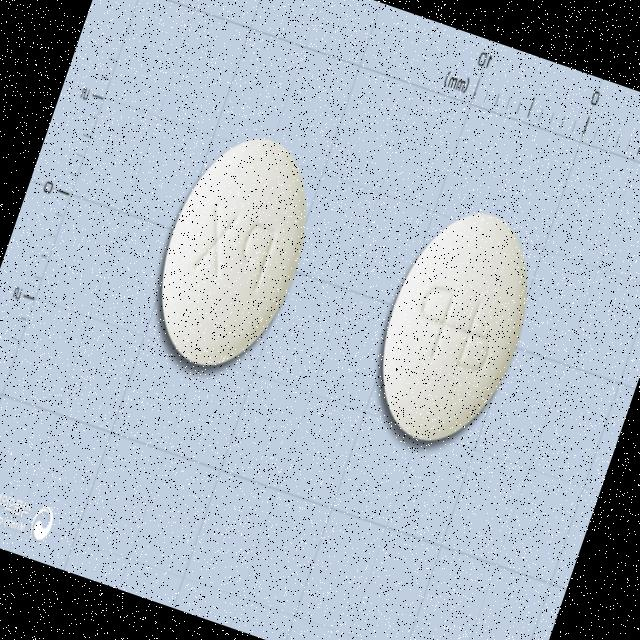Proxco Tab: (354, 192, 556, 460), (132, 118, 334, 384)
